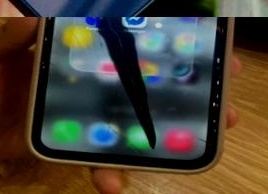physical_damage: (20, 17, 215, 161)
screen_defect: (37, 17, 227, 164)
